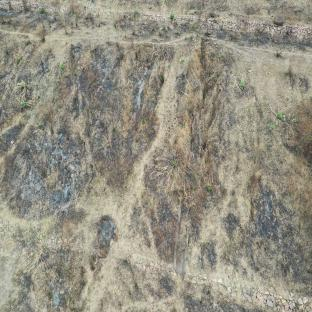rock_toe: (39, 233, 312, 312), (114, 10, 312, 42)
slope_drain: (172, 197, 192, 277)
